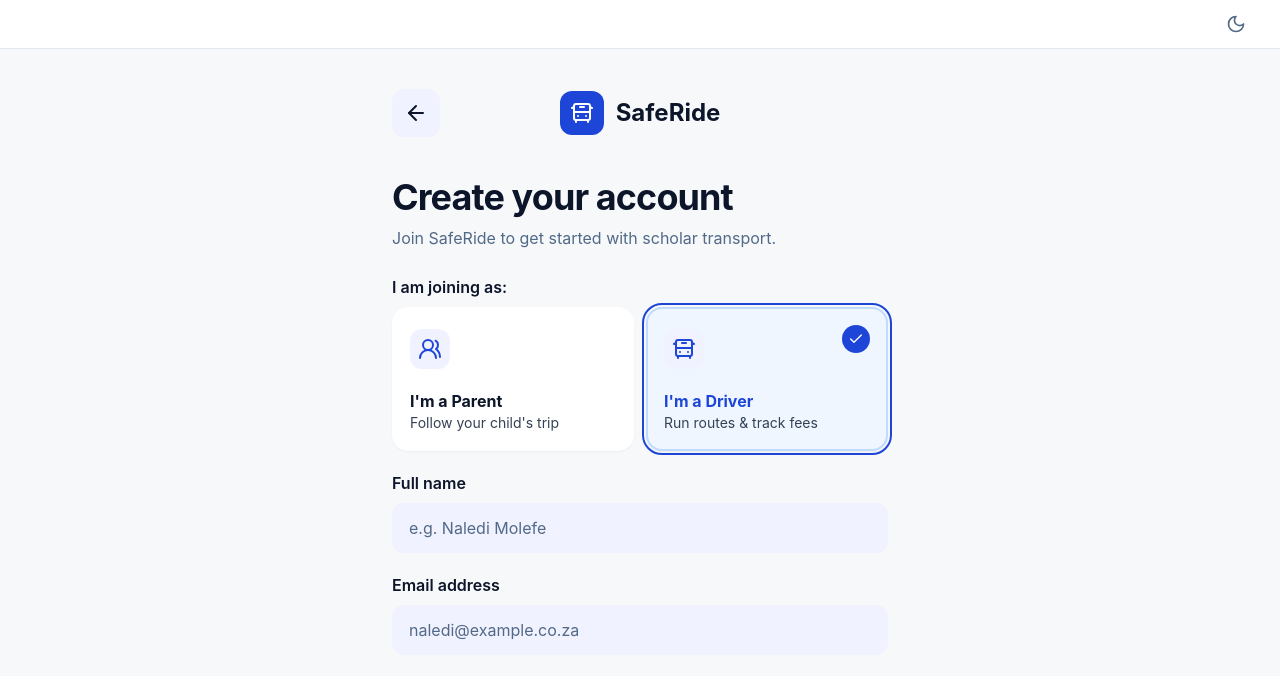
Test case: authentication › AC-1.2 lets a driver continue to compliance and return to their details
Earlier steps of the test are not shown.
Step 1. Type "Sipho Dlamini" into the field labelled "Full name" → (640, 528), box [392,503,888,553]
Step 2. Type "sipho@example.co.za" into the field labelled "Email address" → (640, 630), box [392,605,888,655]
(page scrolled)
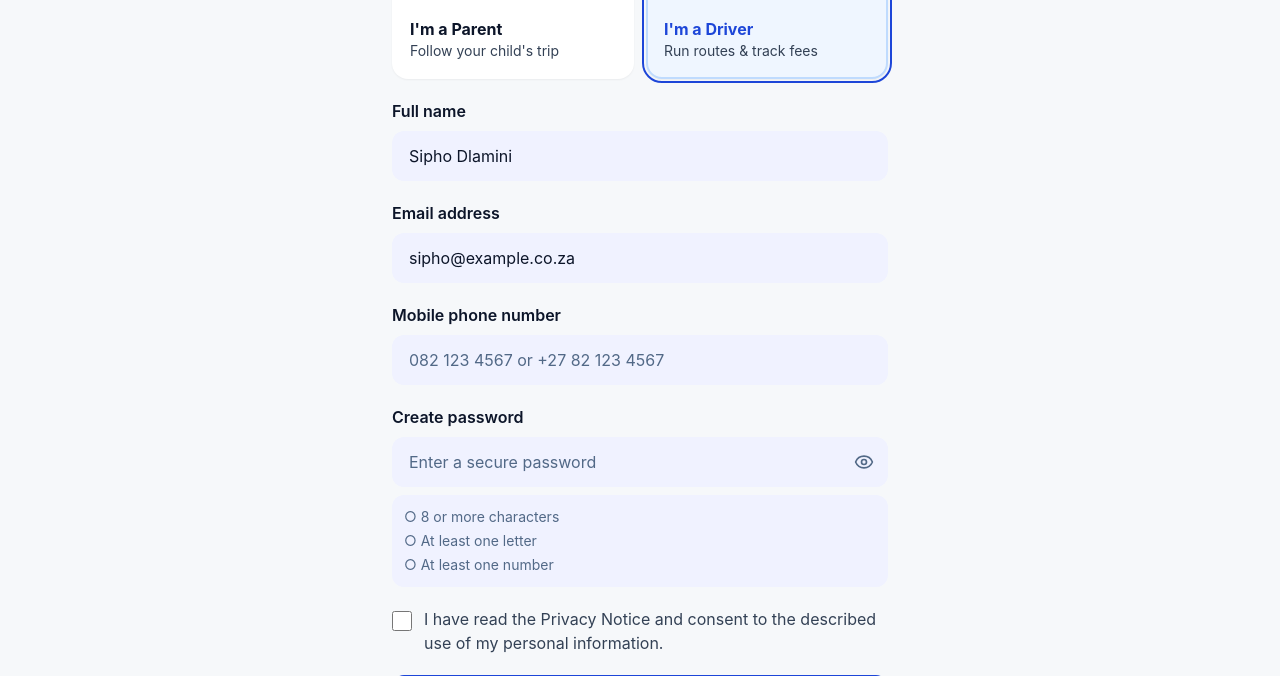
Step 3. Type "082 123 4567" into the field labelled "Mobile phone number" → (640, 360), box [392,335,888,385]
Step 4. Type "Passw0rdA" into the password field labelled "Create password" → (640, 462), box [392,437,888,487]
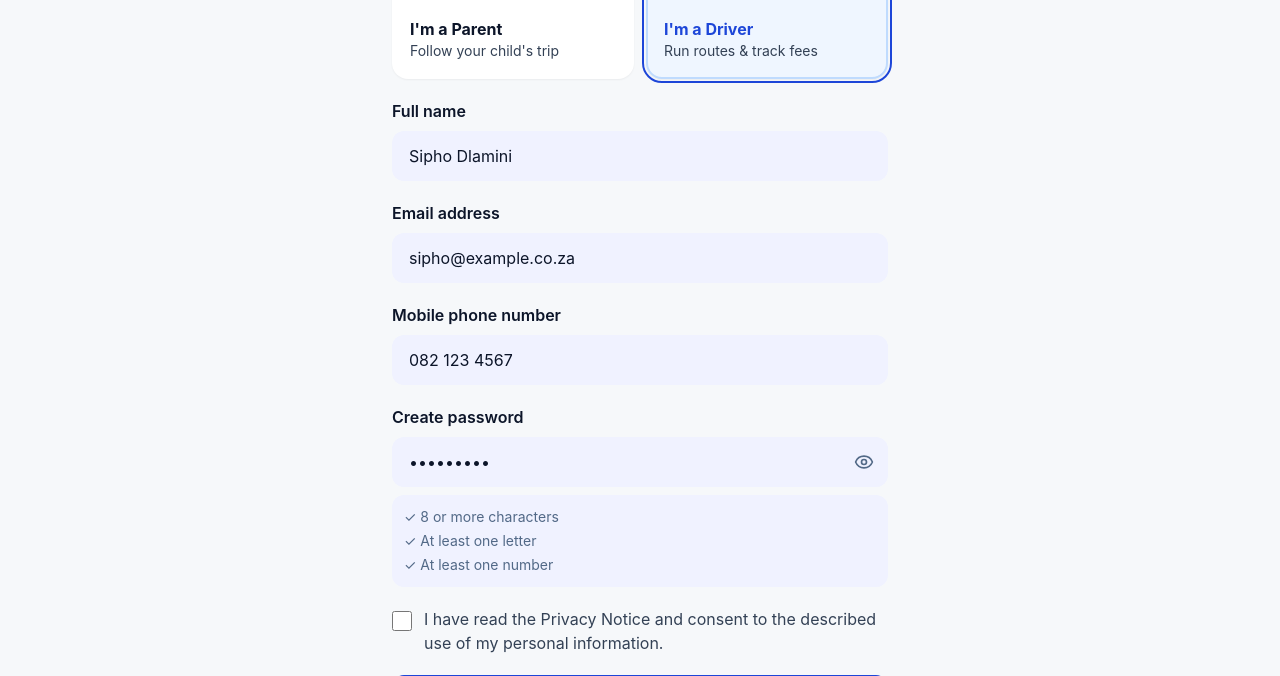
Step 5. Click the checkbox → (402, 621), box [392,611,412,631]
(page scrolled)
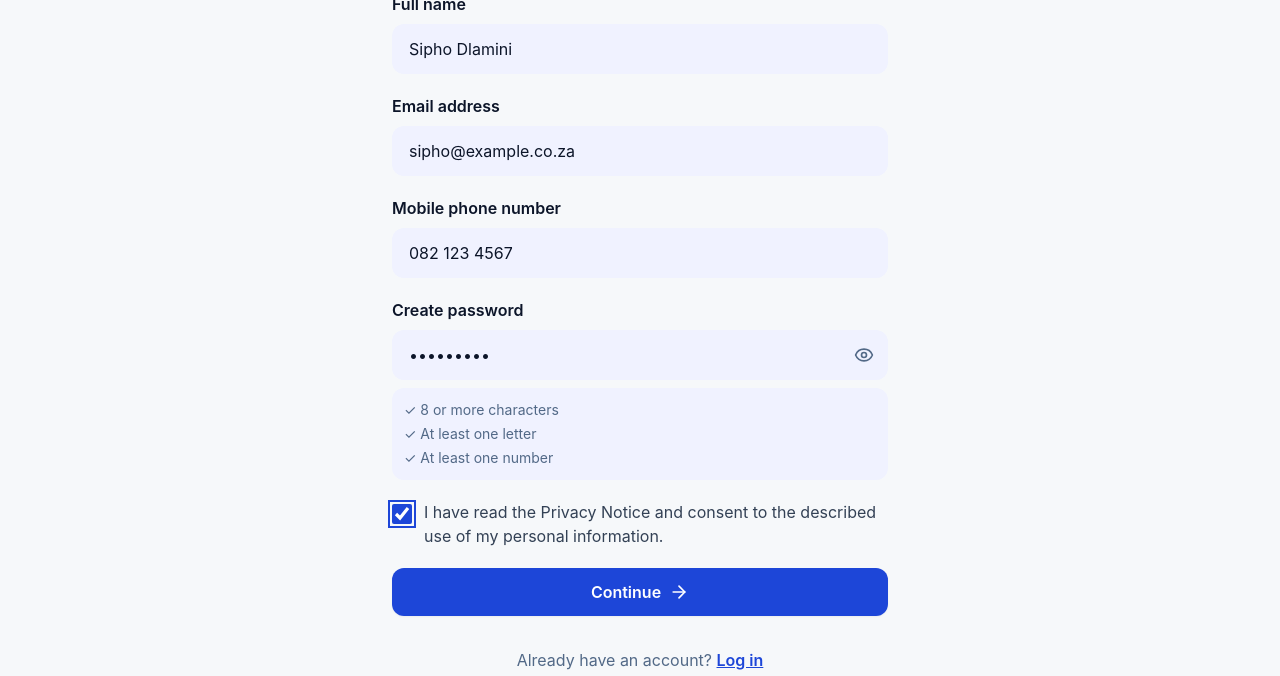
Step 6. Click the button "Continue" → (640, 592), box [392,568,888,616]
(page scrolled)
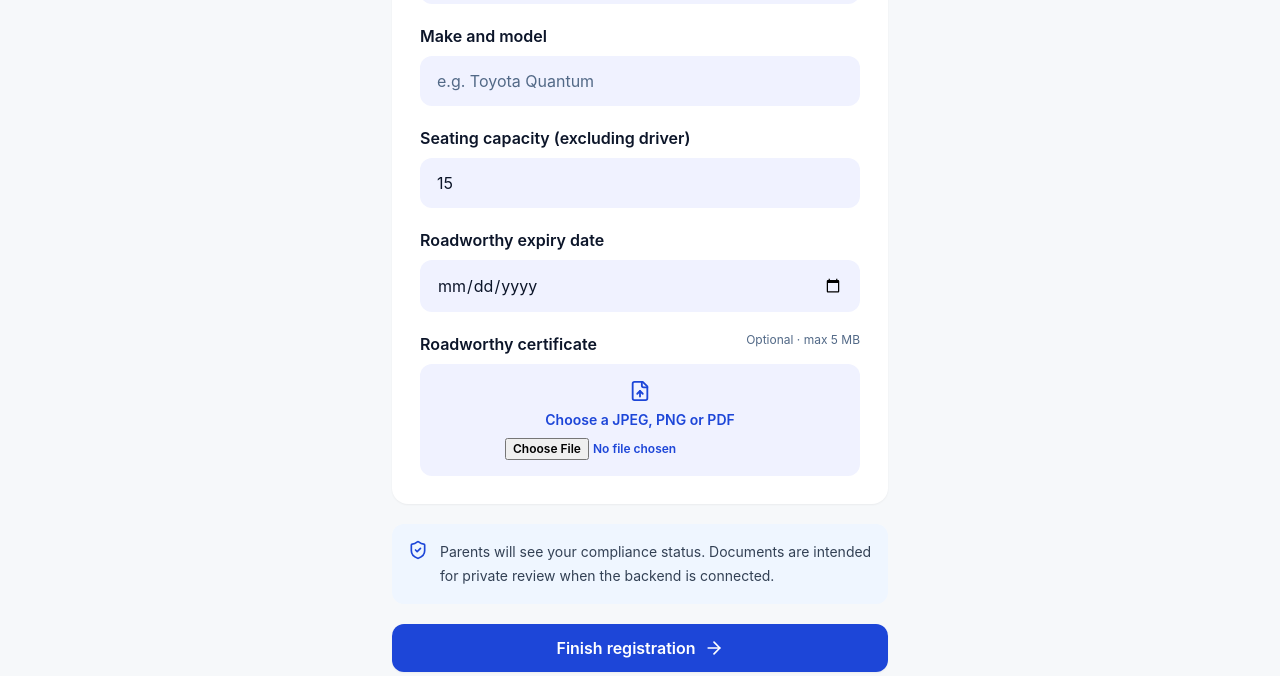
Step 7. Click the button "Finish registration" → (640, 648), box [392,624,888,672]
(page scrolled)
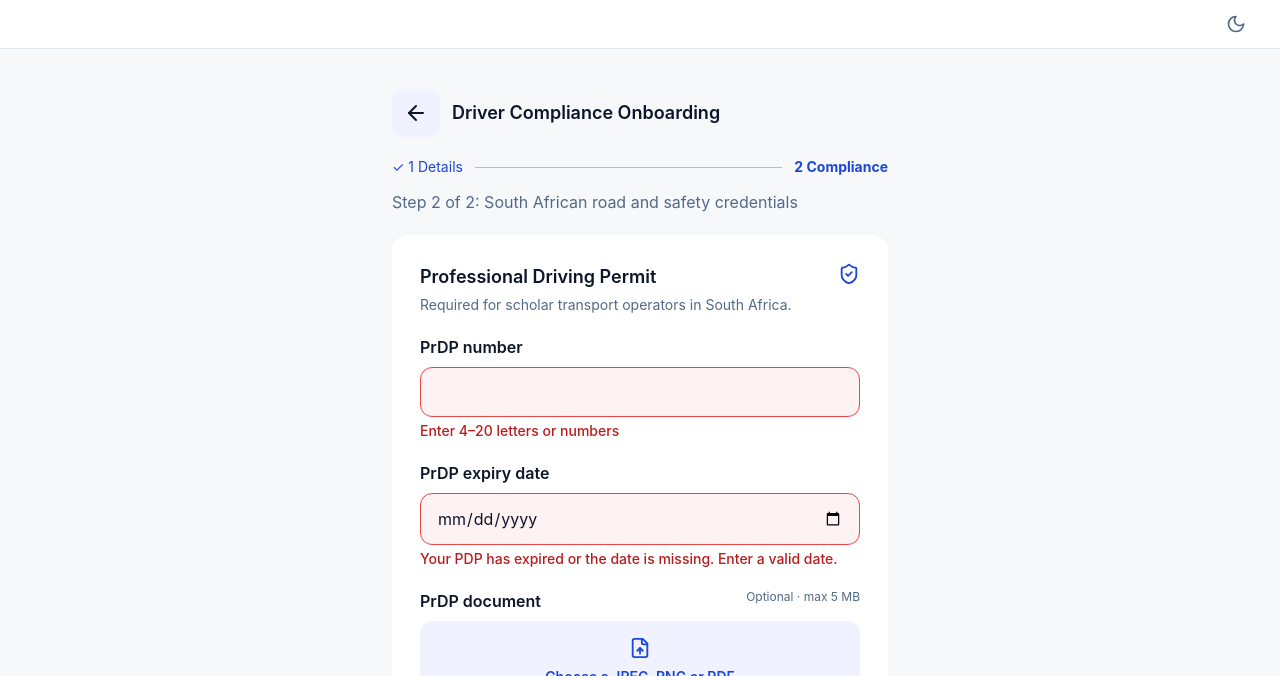
Now the text "Enter 4–20 letters or numbers" is shown, box [420,422,619,439]
Step 8. Click the link named "Back to account details" → (416, 113), box [392,89,440,137]
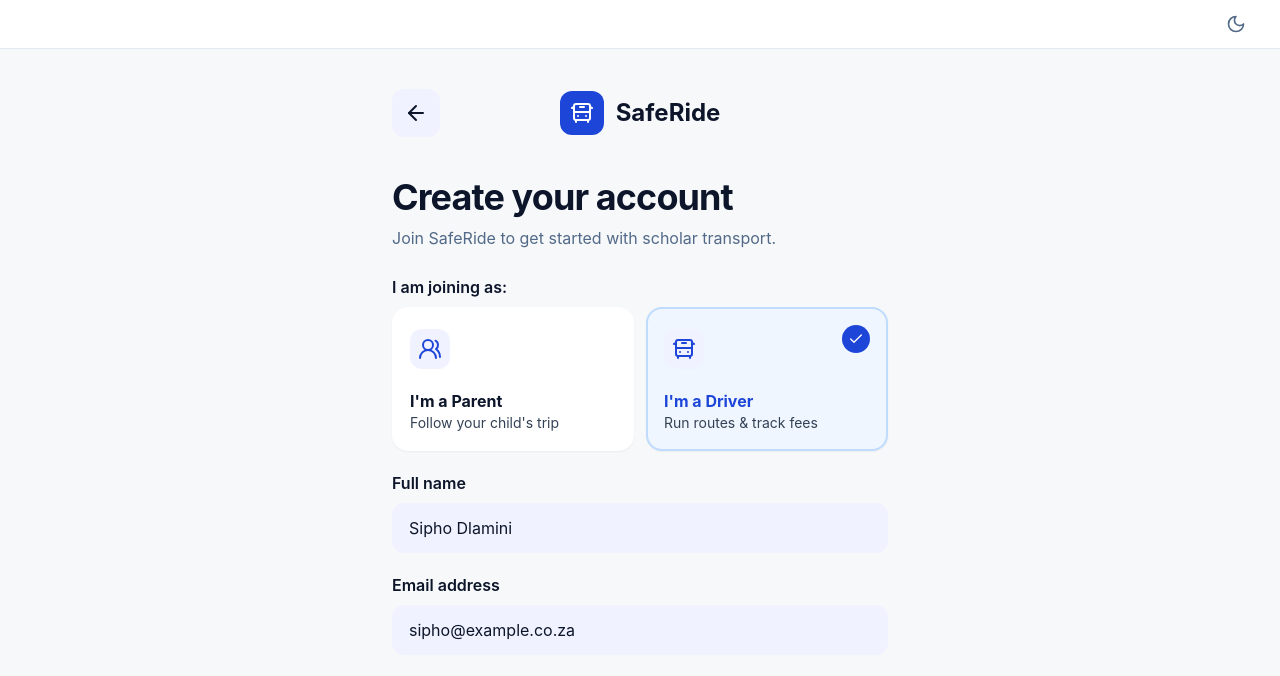
Now the field labelled "Full name" holds "Sipho Dlamini", box [392,503,888,553]
